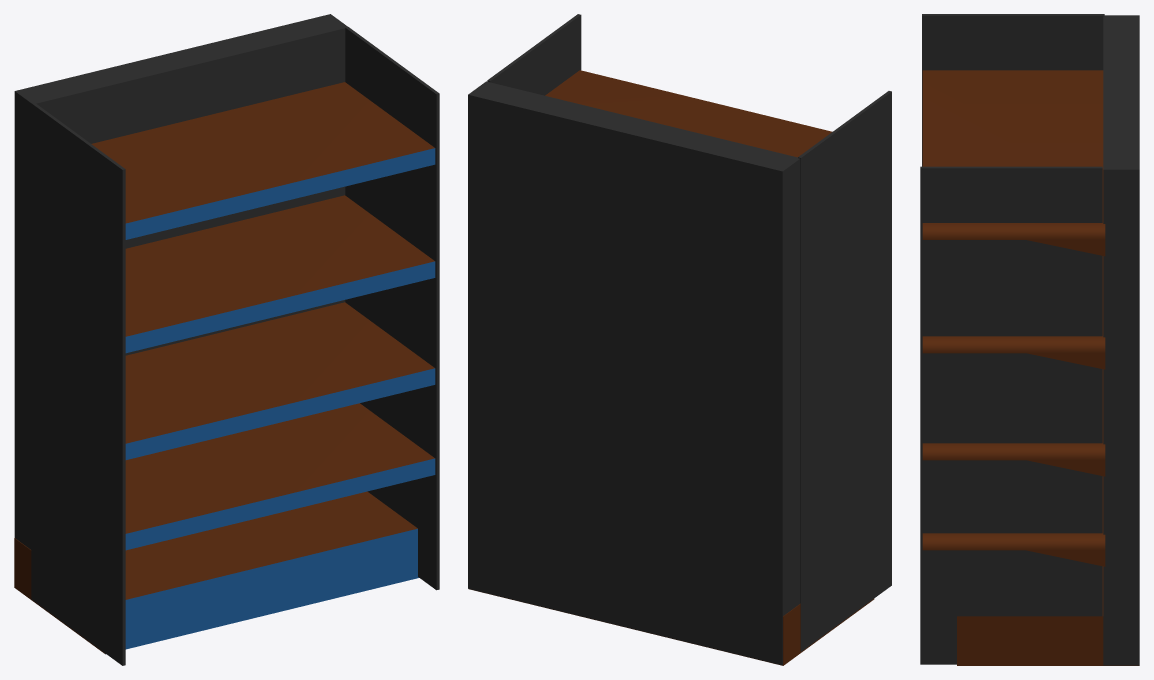
Rendered from blue_shelf.fbx.
The picture shows the model from 3 angles, left to right: view 1: azimuth 30°, elevation 25°; view 2: azimuth 150°, elevation 25°; view 3: azimuth 270°, elevation 25°; orthographic projection.
Visible parts, largest first — view 1: pCube7, pCube2, pCube6, pCube1, pCube5, pCube4, pCube3, pCube110; view 2: pCube2, pCube7, pCube6, pCube110, pCube1; view 3: pCube110, pCube2, pCube6, pCube7, pCube1, pCube5, pCube4, pCube3.
Boxes of the visible parts, x1=… form: pCube7: x1=31, y1=102, x2=125, y2=665; pCube2: x1=14, y1=14, x2=347, y2=549; pCube6: x1=91, y1=82, x2=435, y2=239; pCube1: x1=14, y1=491, x2=418, y2=654; pCube5: x1=125, y1=195, x2=435, y2=353; pCube4: x1=125, y1=302, x2=435, y2=459; pCube3: x1=125, y1=403, x2=435, y2=550; pCube110: x1=345, y1=27, x2=439, y2=590; pCube2: x1=468, y1=81, x2=800, y2=665; pCube7: x1=798, y1=91, x2=891, y2=651; pCube6: x1=545, y1=70, x2=832, y2=157; pCube110: x1=487, y1=14, x2=581, y2=95; pCube1: x1=469, y1=589, x2=874, y2=665; pCube110: x1=920, y1=166, x2=1102, y2=664; pCube2: x1=1103, y1=15, x2=1139, y2=665; pCube6: x1=922, y1=70, x2=1105, y2=256; pCube7: x1=922, y1=14, x2=1104, y2=166; pCube1: x1=957, y1=566, x2=1139, y2=665; pCube5: x1=922, y1=256, x2=1105, y2=369; pCube4: x1=922, y1=369, x2=1105, y2=476; pCube3: x1=922, y1=476, x2=1105, y2=566.
Size of the model in its own units: 1.01 by 1.51 by 0.6035.
